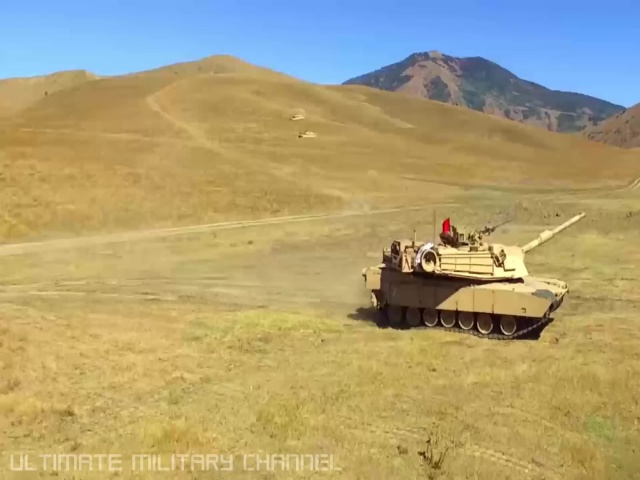vehicle: (363, 236, 572, 341)
